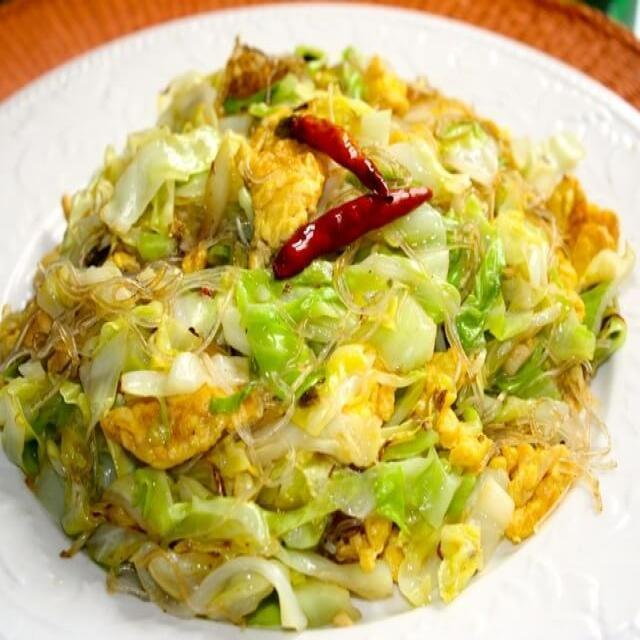chinese_cabbage: (20, 62, 605, 618)
